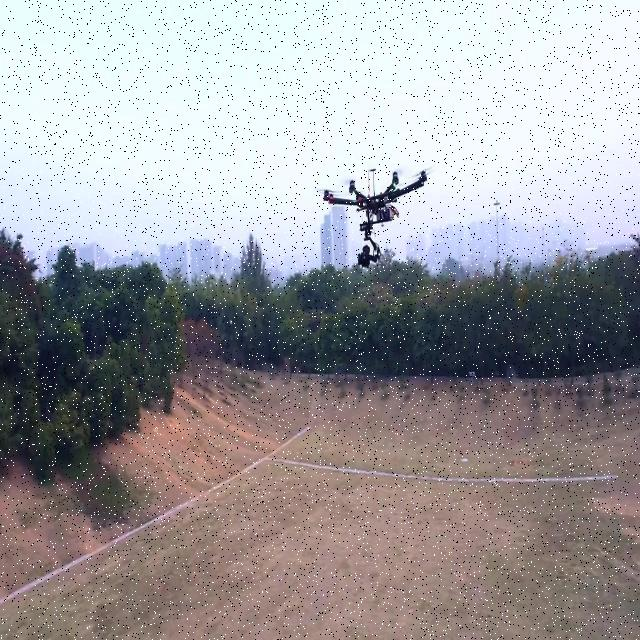UAV: (316, 166, 434, 268)
